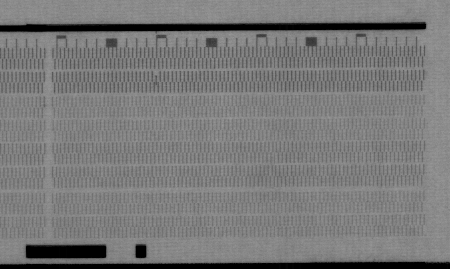Oblique printing: (151, 71, 161, 86)
